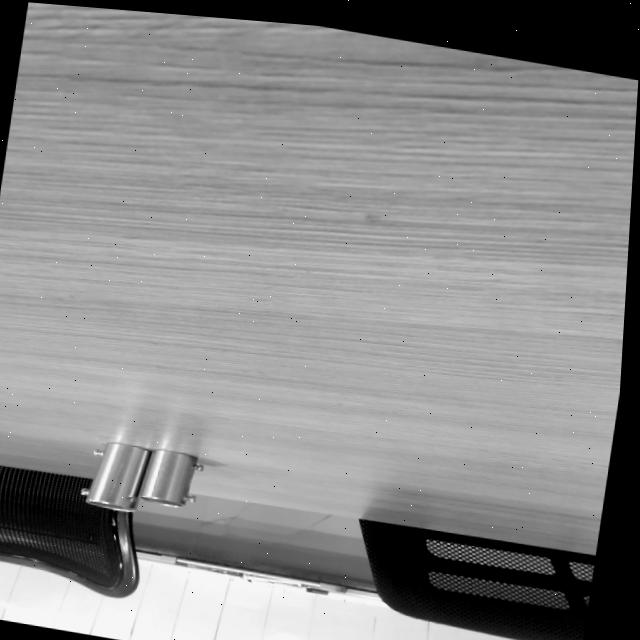Co_Lon: (75, 435, 151, 514)
Co_Nho: (136, 444, 204, 512)
